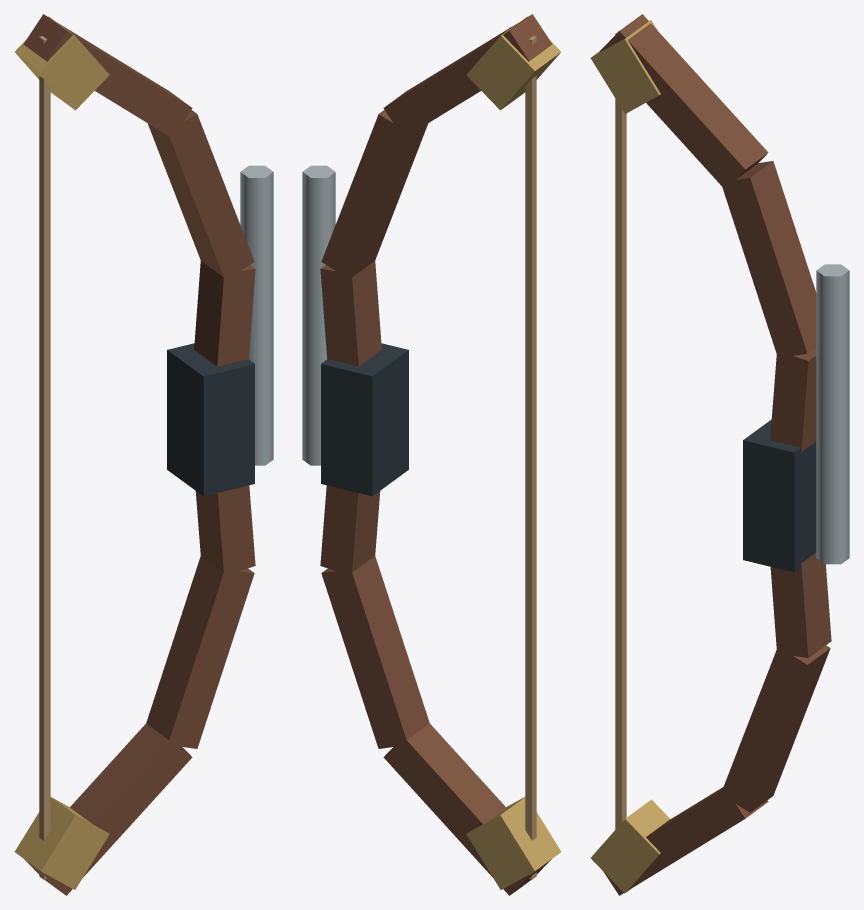
The model's file is fixed-bow.glb.
3 views of the same model, side by side, from view 1: azimuth 30°, elevation 25°; view 2: azimuth 150°, elevation 25°; view 3: azimuth 330°, elevation 25° (orthographic).
Parts seen in each view (by area): view 1: piece_whole; view 2: piece_whole; view 3: piece_whole.
Boxes of the visible parts, box(x1,y1,x2,y2) form: piece_whole: box(14, 14, 273, 895); piece_whole: box(302, 14, 561, 895); piece_whole: box(590, 14, 849, 895).
Bounding box in the file's own units: 0.4218 × 1.44 × 0.11.
